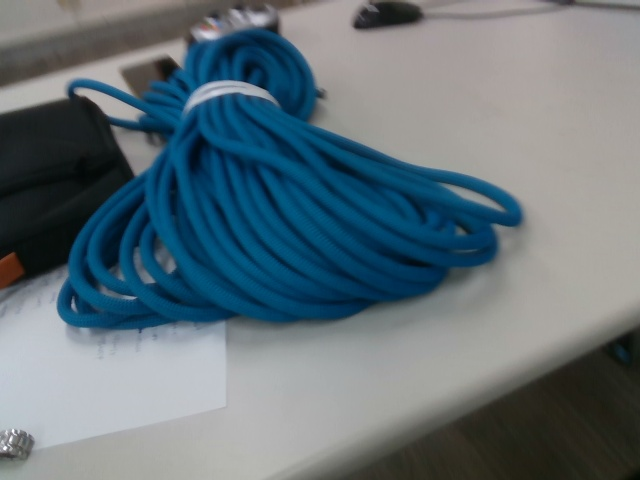rope: (54, 24, 527, 331)
